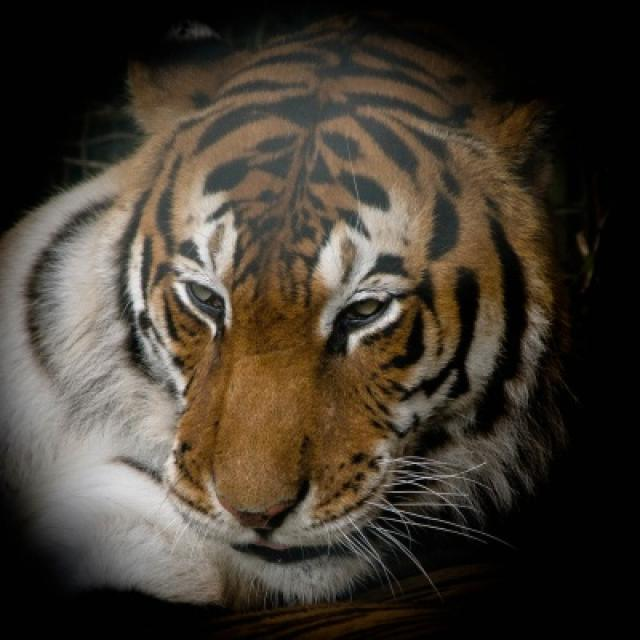Tiger: (0, 34, 611, 611)
